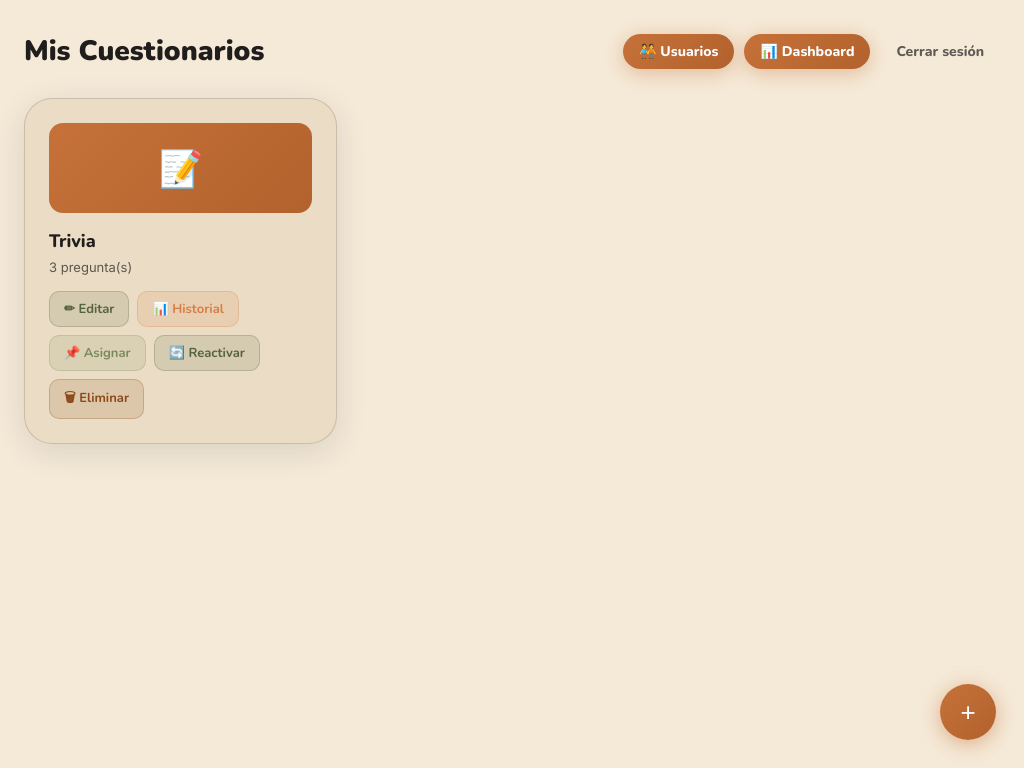
Test: QuizListView — Reactivar popup › lists the quiz assignments instead of reactivating everyone at once
The width and height of the screenshot is (1024, 768).
Click the button with class "btn-reactivate": x=207, y=353 [154,335,260,371]
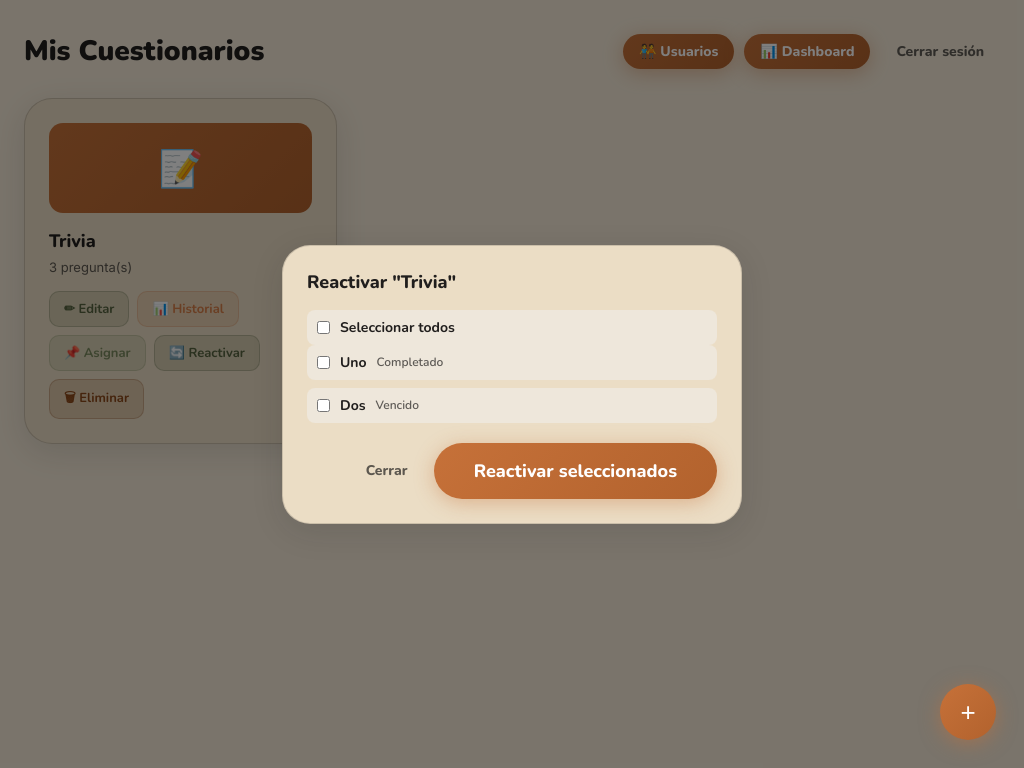
Expected: the label with class "assign-user-row" shows "Uno", [340,352,367,372]
